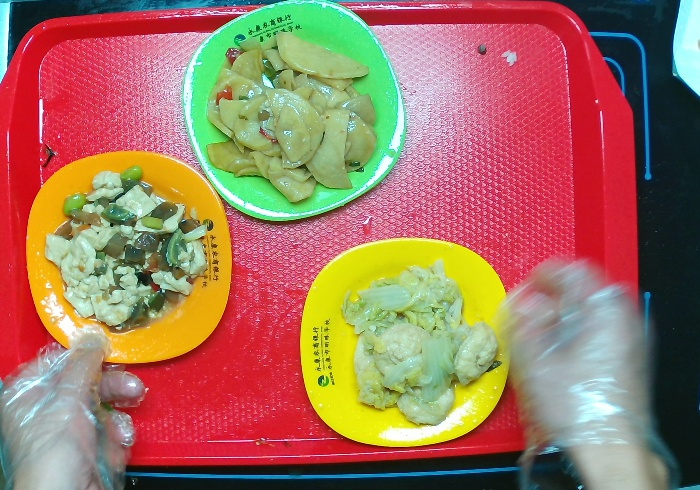YKMZ-Huang_Se_Fang_Die: (287, 231, 522, 477)
YKMZ-Ju_Se_Fang_Die: (13, 134, 248, 380)
YKMZ-Lv_Se_Fang_Die: (168, 1, 422, 229)
